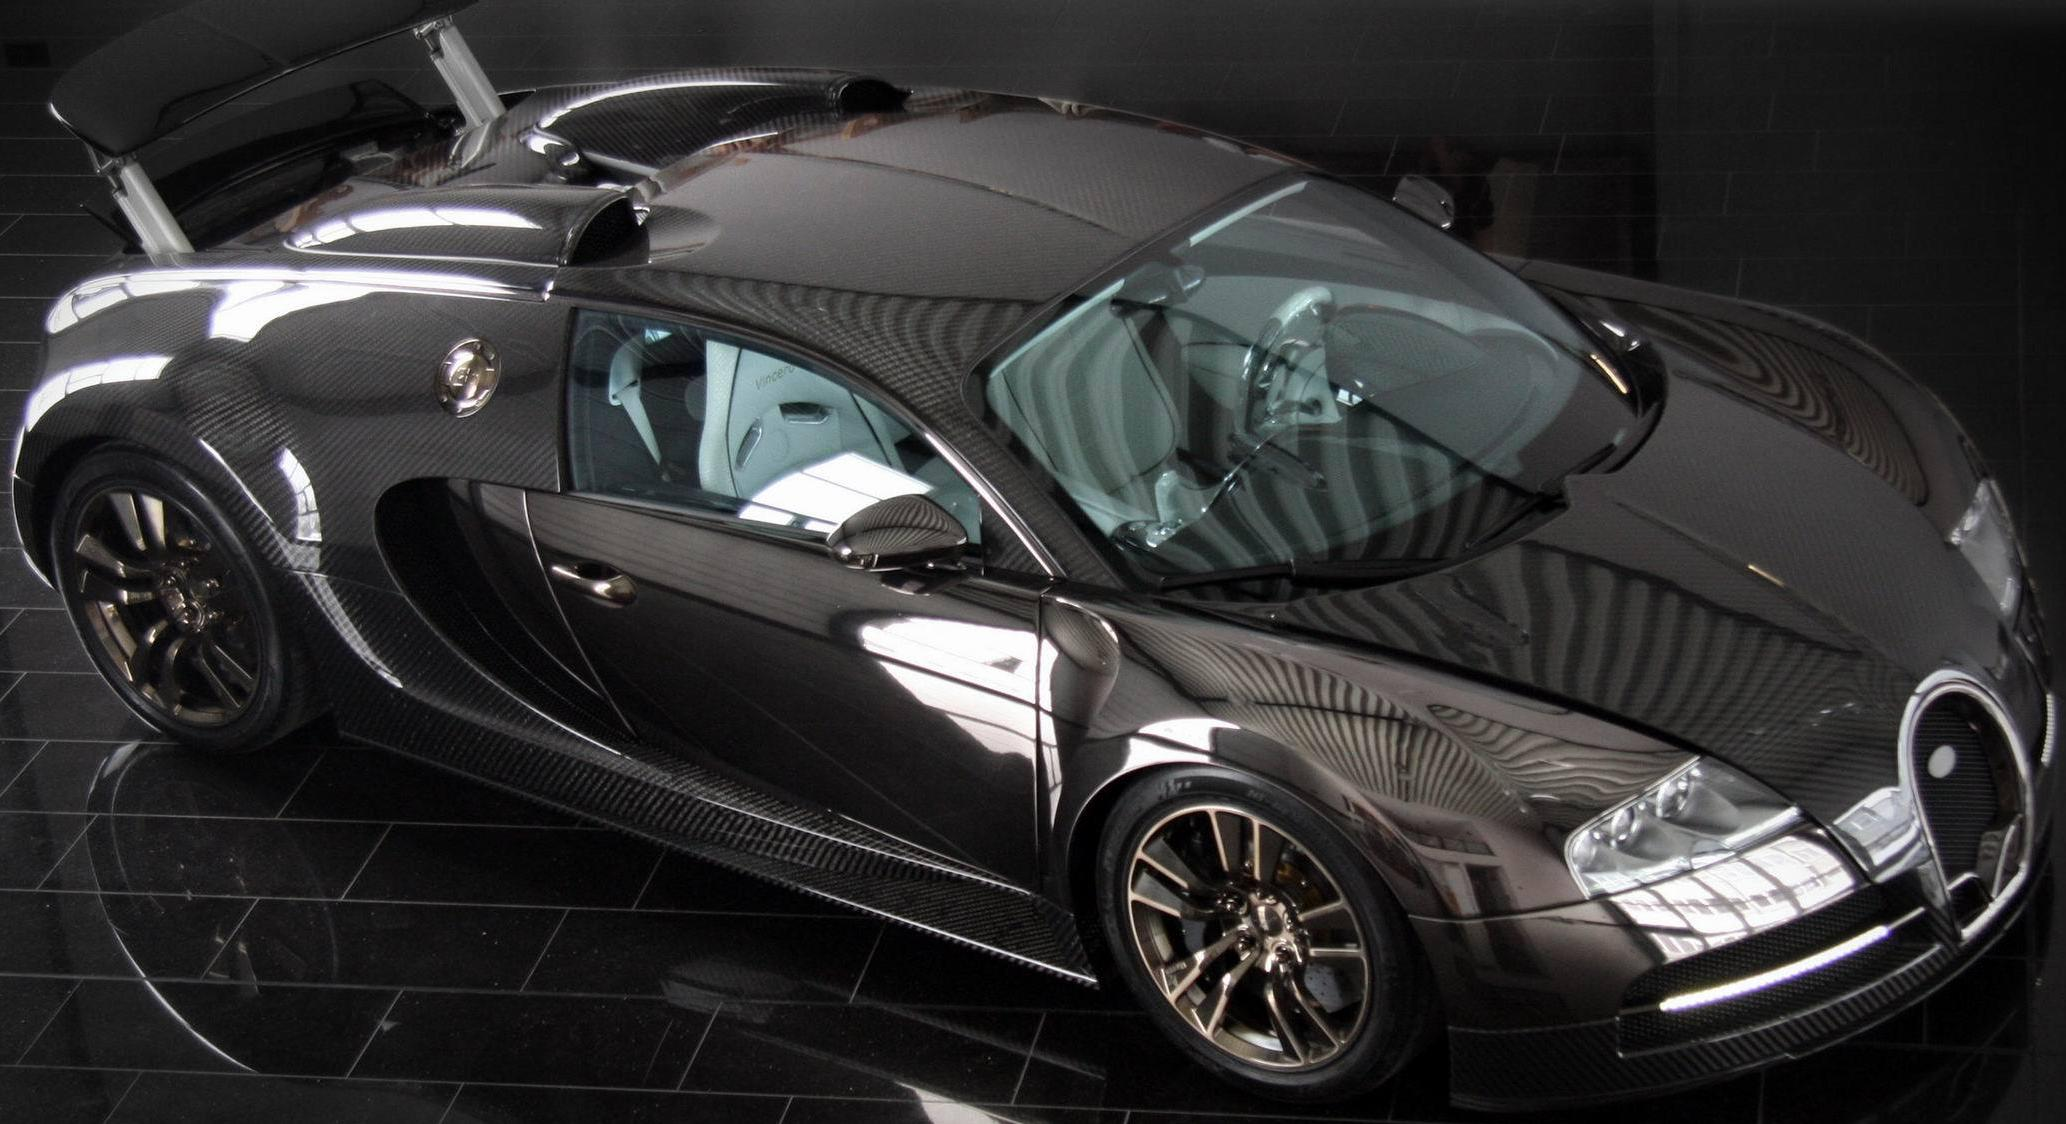front_view: (1421, 359, 2066, 1124)
headlight: (1553, 749, 1816, 908)
side_glass: (552, 300, 987, 579)
